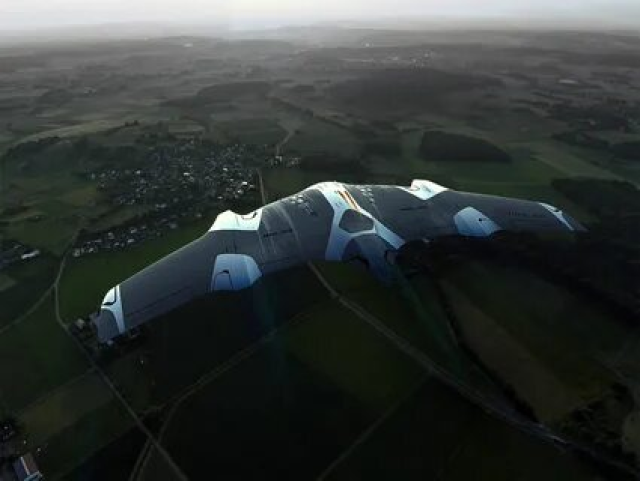military drone: (94, 178, 589, 344)
